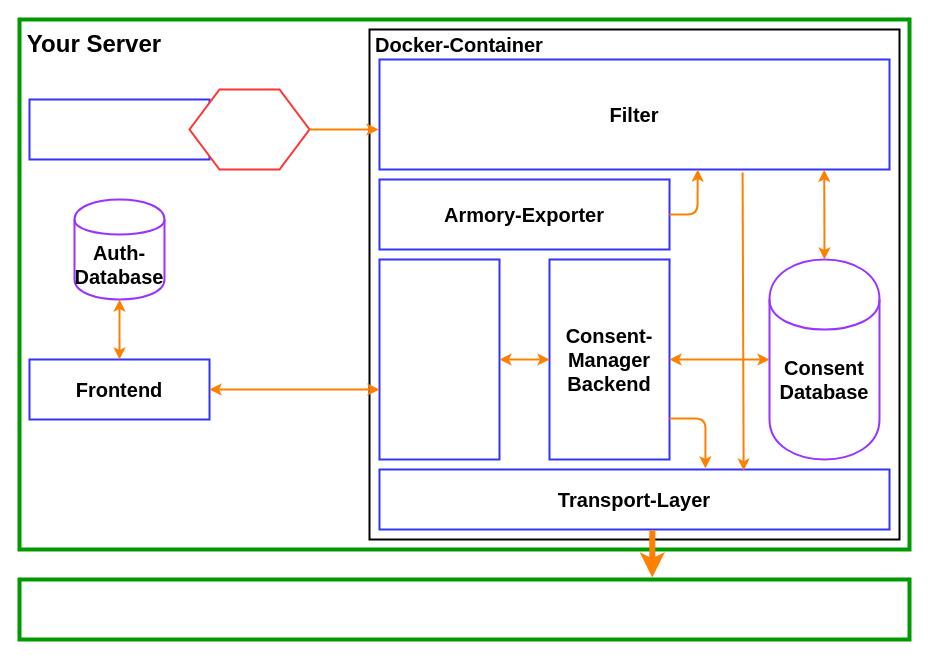
Image size: 928x658. Some labels were removed from this diagram. Here are the shapes that lost their labels. From the top down, the box of each, then its label:
(28, 98, 210, 160): World-Server
(188, 88, 310, 170): LP World-Server Export Plugin
(378, 258, 500, 460): Consent-Manager Frontend
(17, 577, 911, 641): LegacyPlayers
